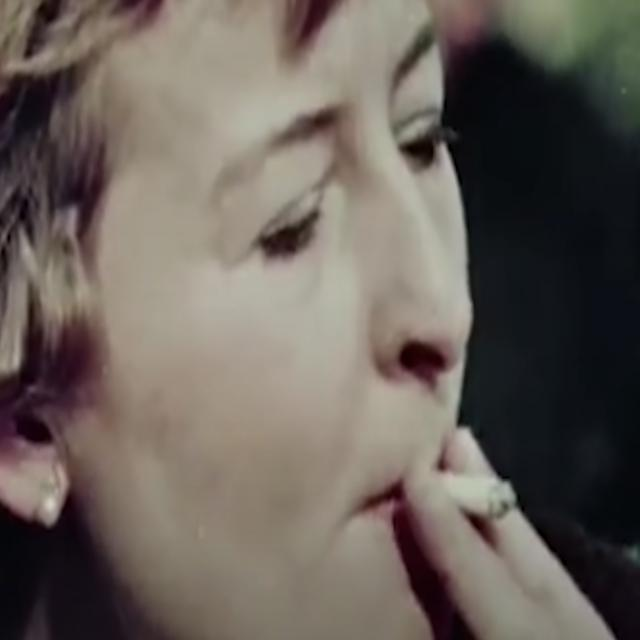cigarette: (430, 464, 537, 549)
